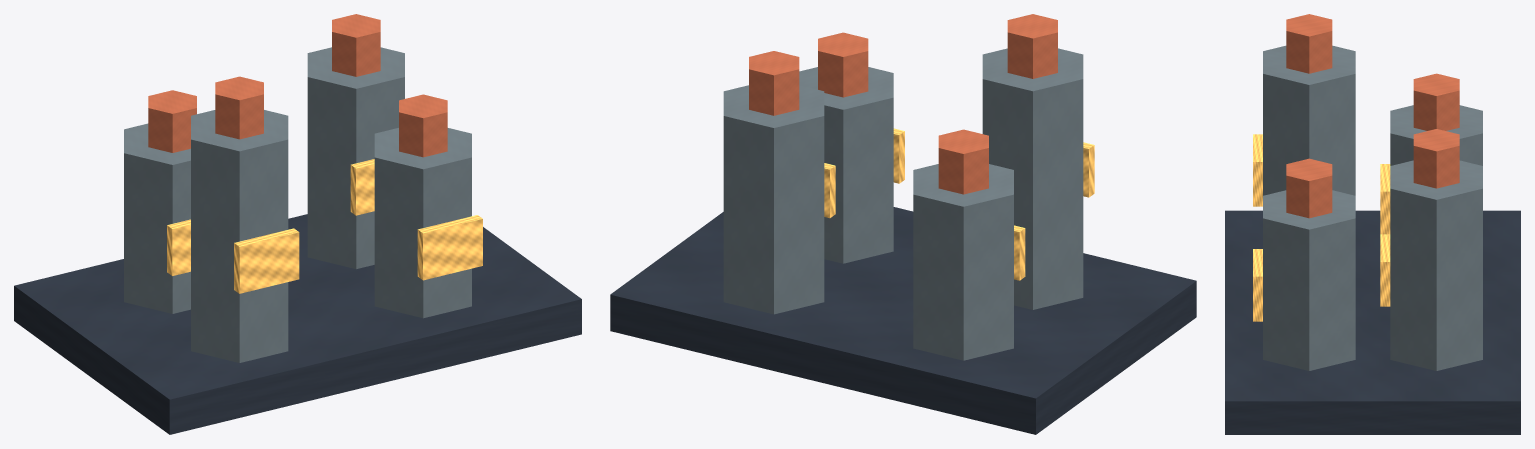
Rendered from atlas100-s023-a04.glb.
3 renders of one model, left to right at view 1: azimuth 30°, elevation 25°; view 2: azimuth 150°, elevation 25°; view 3: azimuth 270°, elevation 25°, orthographic. The views are drawn at different scales.
Parts seen in each view (by area): view 1: atlas100-s023-a04:part-000, atlas100-s023-a04:part-007, atlas100-s023-a04:part-004, atlas100-s023-a04:part-010, atlas100-s023-a04:part-001, atlas100-s023-a04:part-012, atlas100-s023-a04:part-009, atlas100-s023-a04:part-005, atlas100-s023-a04:part-008, atlas100-s023-a04:part-011, atlas100-s023-a04:part-002, atlas100-s023-a04:part-006 (+1 smaller); view 2: atlas100-s023-a04:part-000, atlas100-s023-a04:part-004, atlas100-s023-a04:part-007, atlas100-s023-a04:part-001, atlas100-s023-a04:part-010, atlas100-s023-a04:part-008, atlas100-s023-a04:part-002, atlas100-s023-a04:part-005, atlas100-s023-a04:part-011, atlas100-s023-a04:part-009, atlas100-s023-a04:part-012, atlas100-s023-a04:part-006 (+1 smaller); view 3: atlas100-s023-a04:part-000, atlas100-s023-a04:part-004, atlas100-s023-a04:part-010, atlas100-s023-a04:part-007, atlas100-s023-a04:part-001, atlas100-s023-a04:part-005, atlas100-s023-a04:part-011, atlas100-s023-a04:part-008, atlas100-s023-a04:part-002, atlas100-s023-a04:part-006, atlas100-s023-a04:part-003, atlas100-s023-a04:part-009 (+1 smaller).
Part boxes in pixels (x1,y1,x2,y2): atlas100-s023-a04:part-000: [14, 214, 581, 434]; atlas100-s023-a04:part-007: [191, 110, 288, 362]; atlas100-s023-a04:part-004: [307, 47, 404, 269]; atlas100-s023-a04:part-010: [374, 128, 471, 318]; atlas100-s023-a04:part-001: [124, 123, 190, 313]; atlas100-s023-a04:part-012: [417, 215, 482, 280]; atlas100-s023-a04:part-009: [234, 228, 299, 293]; atlas100-s023-a04:part-005: [332, 14, 380, 76]; atlas100-s023-a04:part-008: [215, 76, 263, 139]; atlas100-s023-a04:part-011: [399, 94, 447, 157]; atlas100-s023-a04:part-002: [148, 90, 196, 152]; atlas100-s023-a04:part-006: [350, 159, 374, 215]; atlas100-s023-a04:part-000: [610, 207, 1196, 434]; atlas100-s023-a04:part-004: [723, 85, 824, 314]; atlas100-s023-a04:part-007: [982, 48, 1083, 309]; atlas100-s023-a04:part-001: [913, 164, 1013, 360]; atlas100-s023-a04:part-010: [799, 67, 893, 263]; atlas100-s023-a04:part-008: [1007, 14, 1057, 78]; atlas100-s023-a04:part-002: [938, 129, 988, 194]; atlas100-s023-a04:part-005: [749, 51, 799, 115]; atlas100-s023-a04:part-011: [818, 32, 868, 97]; atlas100-s023-a04:part-009: [1083, 142, 1094, 197]; atlas100-s023-a04:part-012: [893, 128, 904, 183]; atlas100-s023-a04:part-006: [824, 163, 835, 218]; atlas100-s023-a04:part-000: [1225, 210, 1520, 434]; atlas100-s023-a04:part-004: [1390, 160, 1482, 370]; atlas100-s023-a04:part-010: [1263, 190, 1355, 370]; atlas100-s023-a04:part-007: [1263, 45, 1355, 195]; atlas100-s023-a04:part-001: [1390, 105, 1482, 165]; atlas100-s023-a04:part-005: [1413, 129, 1459, 188]; atlas100-s023-a04:part-011: [1286, 158, 1332, 218]; atlas100-s023-a04:part-008: [1286, 14, 1332, 73]; atlas100-s023-a04:part-002: [1413, 73, 1459, 130]; atlas100-s023-a04:part-006: [1380, 234, 1390, 306]; atlas100-s023-a04:part-003: [1380, 164, 1390, 234]; atlas100-s023-a04:part-009: [1253, 134, 1262, 206].
Size of the model in its own units: 1.18 by 0.7804 by 0.7697.
Materials: 4 (4 with a texture image).
